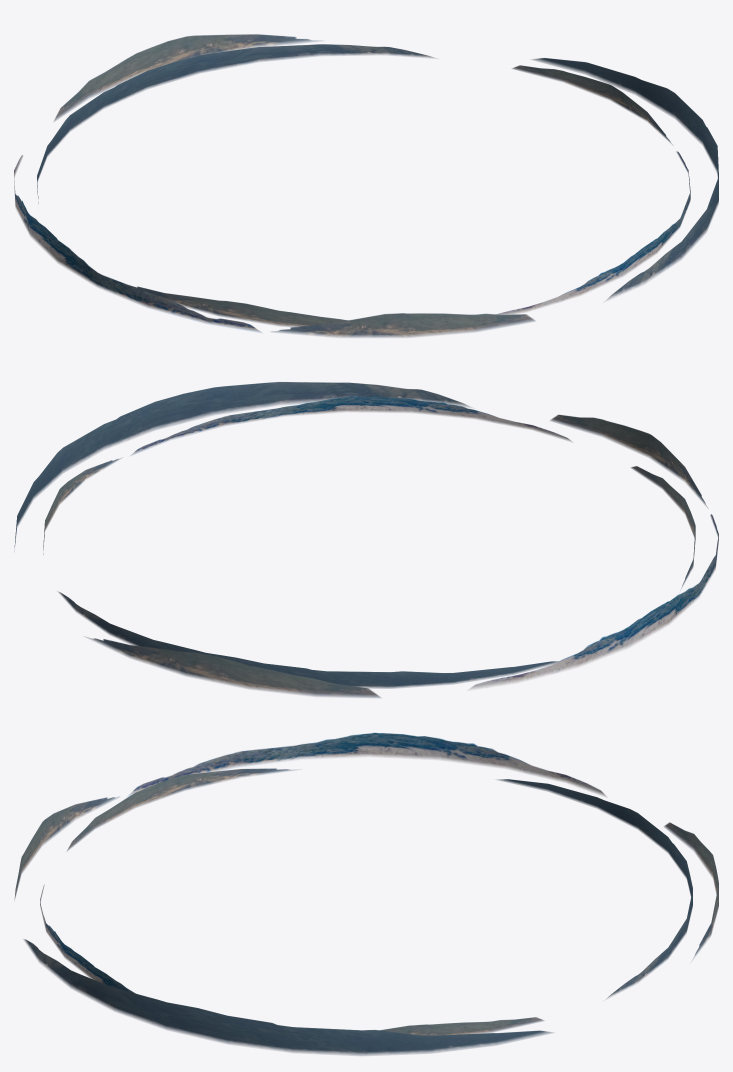
The model's file is WaterMountains.glb.
The picture shows the model from 3 angles, top to bottom: view 1: azimuth 30°, elevation 25°; view 2: azimuth 150°, elevation 25°; view 3: azimuth 270°, elevation 25°; orthographic projection.
Visible parts, largest first — view 1: Cylinder.011; view 2: Cylinder.011; view 3: Cylinder.011.
Part boxes in pixels (left/top/right/bottom): Cylinder.011: left=14, top=34, right=718, bottom=337; Cylinder.011: left=14, top=382, right=718, bottom=697; Cylinder.011: left=14, top=733, right=718, bottom=1055.
Bounding box in the file's own units: 371 × 18.03 × 371.
Materials: 1 (1 with a texture image).
